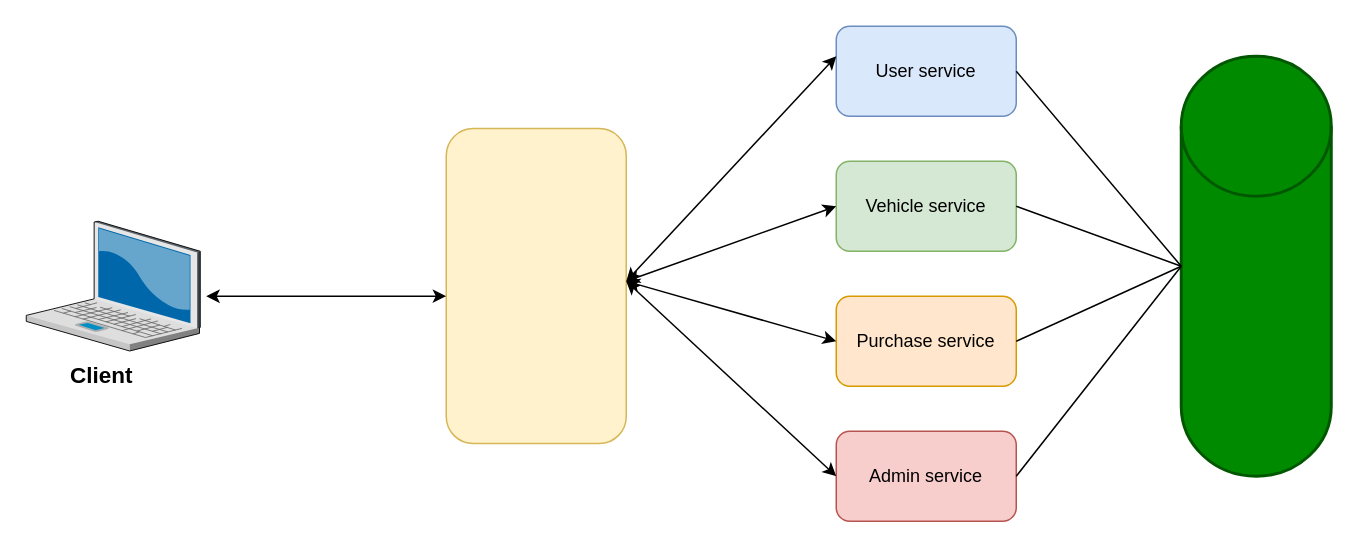
The diagram is 1358 pixels wide and 548 high, and some of its shapes have lost their labels. Each missing label, with the centre of its shape:
"API Gateway Library service" goes at pixel 535 285.
"Database" goes at pixel 1255 265.
